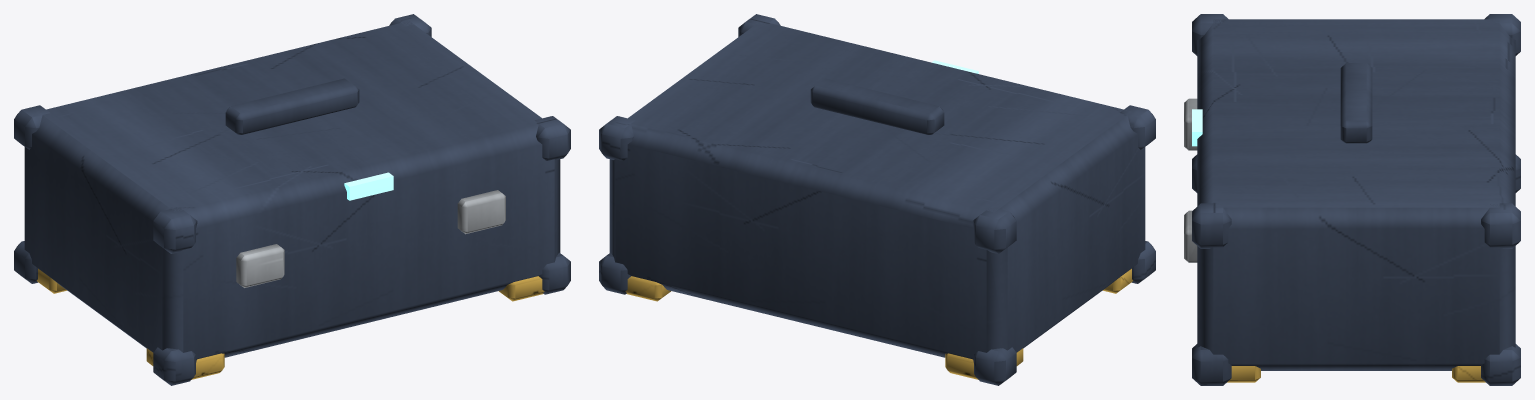
File: instrument_case.glb
3 views of the same model, side by side, from view 1: azimuth 30°, elevation 25°; view 2: azimuth 150°, elevation 25°; view 3: azimuth 270°, elevation 25° (orthographic). The views are drawn at different scales.
Parts seen in each view (by area): view 1: DL018_InstrumentCase_graphite_navy, DL018_InstrumentCase_titanium, DL018_InstrumentCase_amber_accent, DL018_InstrumentCase_emissive_cyan; view 2: DL018_InstrumentCase_graphite_navy, DL018_InstrumentCase_amber_accent; view 3: DL018_InstrumentCase_graphite_navy, DL018_InstrumentCase_titanium, DL018_InstrumentCase_amber_accent, DL018_InstrumentCase_emissive_cyan.
Part boxes in pixels (left/top/right/bottom): DL018_InstrumentCase_graphite_navy: left=14, top=14, right=570, bottom=385; DL018_InstrumentCase_titanium: left=236, top=190, right=505, bottom=287; DL018_InstrumentCase_amber_accent: left=36, top=268, right=544, bottom=379; DL018_InstrumentCase_emissive_cyan: left=344, top=172, right=393, bottom=200; DL018_InstrumentCase_graphite_navy: left=599, top=14, right=1155, bottom=385; DL018_InstrumentCase_amber_accent: left=625, top=268, right=1133, bottom=379; DL018_InstrumentCase_graphite_navy: left=1192, top=14, right=1520, bottom=385; DL018_InstrumentCase_titanium: left=1184, top=98, right=1197, bottom=262; DL018_InstrumentCase_amber_accent: left=1227, top=366, right=1485, bottom=382; DL018_InstrumentCase_emissive_cyan: left=1192, top=109, right=1202, bottom=146.
Size of the model in its own units: 0.92 by 0.405 by 0.635.
5 materials, 4 textured.
